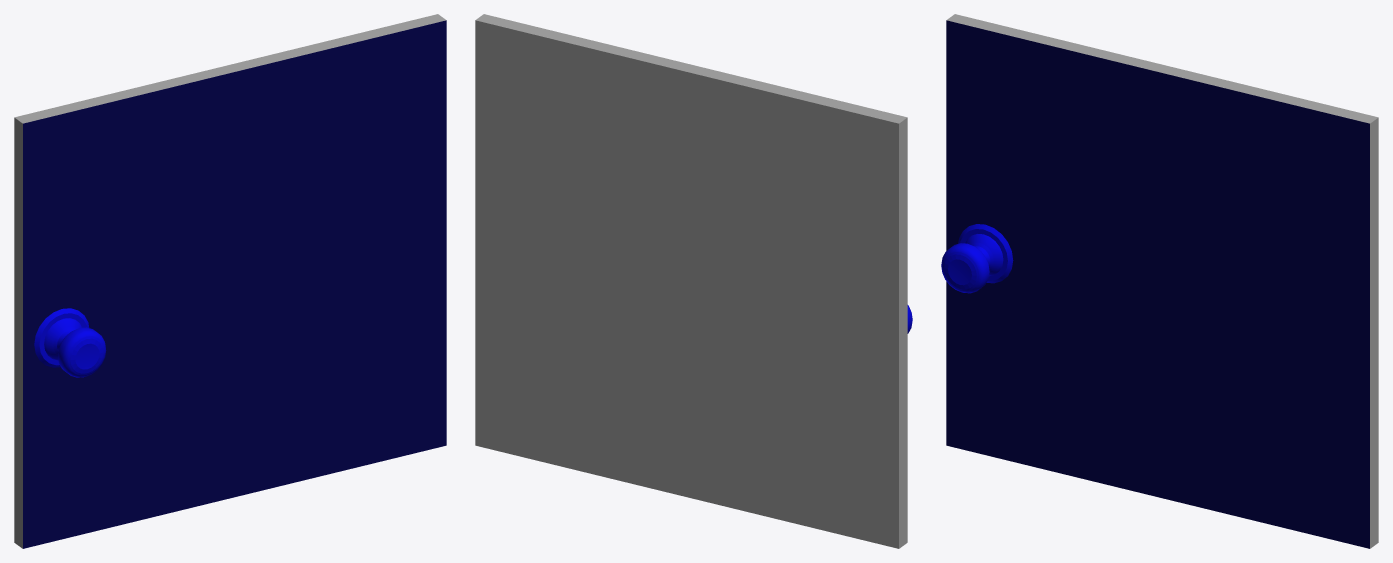
The model's file is Fuse box Door 1.fbx.
3 views of the same model, side by side, from view 1: azimuth 30°, elevation 25°; view 2: azimuth 150°, elevation 25°; view 3: azimuth 330°, elevation 25° (orthographic).
Visible parts, largest first — view 1: pCylinder158; view 2: pCylinder158; view 3: pCylinder158.
Boxes of the visible parts, box(x1,y1,x2,y2) form: pCylinder158: box(14, 14, 446, 548); pCylinder158: box(475, 14, 912, 548); pCylinder158: box(941, 14, 1378, 548).
Bounding box in the file's own units: 6.99 × 6.7 × 0.9735.
